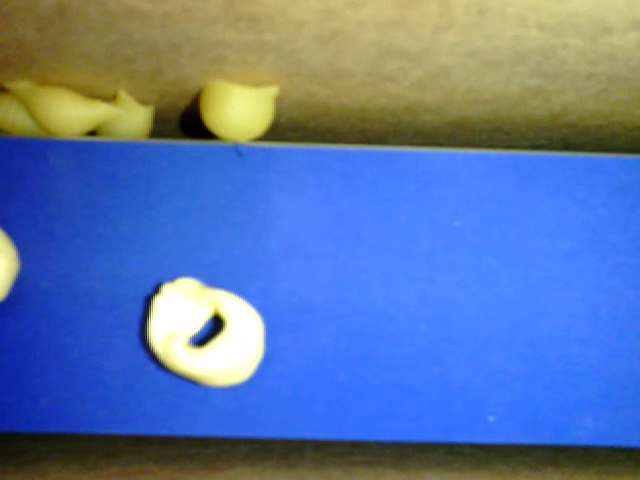shell: (2, 72, 126, 139), (197, 77, 279, 140), (90, 89, 156, 137), (1, 95, 55, 137)
tortellini: (144, 274, 266, 391)
